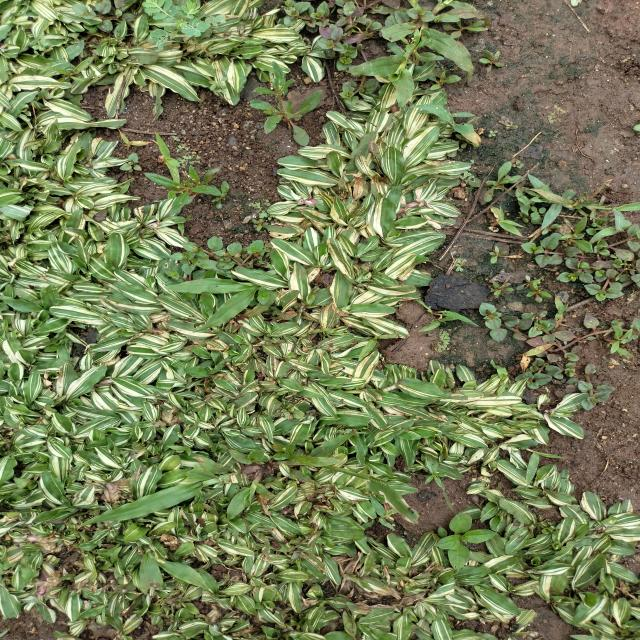buah daun: (141, 0, 229, 50)
gingseng jawa: (249, 60, 325, 149), (143, 165, 221, 218), (482, 160, 525, 203), (189, 179, 232, 210), (442, 17, 488, 40), (608, 323, 636, 359), (478, 48, 509, 74), (524, 280, 553, 306), (486, 278, 515, 299), (487, 245, 510, 264), (503, 119, 520, 131)
rambat atas: (524, 173, 640, 232), (416, 103, 482, 146), (415, 298, 480, 332), (524, 448, 570, 492), (153, 127, 183, 184), (489, 204, 528, 240), (367, 492, 402, 532), (117, 128, 153, 151)
rambat bawah: (79, 464, 266, 525), (383, 0, 483, 85), (136, 542, 210, 598), (345, 53, 415, 109), (226, 468, 276, 521), (489, 357, 508, 400)
tunggang besar: (434, 508, 497, 574)
ungu tunggang: (479, 301, 640, 412), (519, 224, 640, 300), (282, 0, 383, 72), (164, 236, 264, 276), (70, 0, 138, 33), (337, 77, 381, 107), (403, 5, 437, 24), (121, 151, 143, 174)
